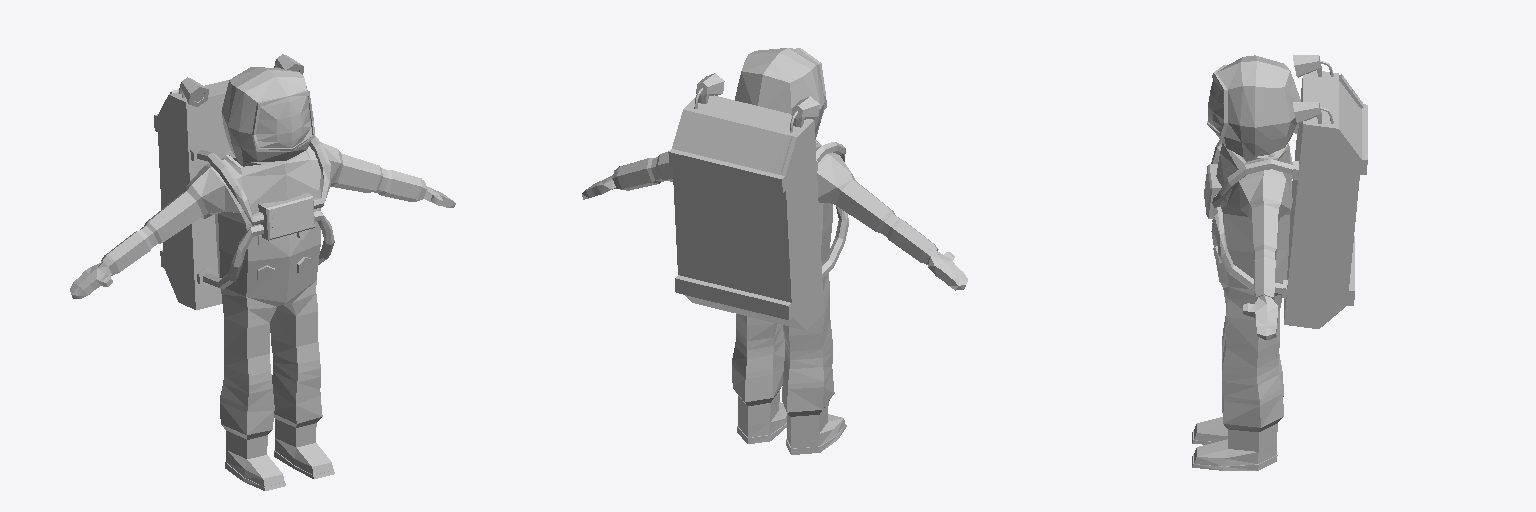
File: astronauta.obj
3 renders of one model, left to right at view 1: azimuth 30°, elevation 25°; view 2: azimuth 150°, elevation 25°; view 3: azimuth 270°, elevation 25°, orthographic.
Parts seen in each view (by area): view 1: Astronauta_Cubo, Mochila_Cubo.003; view 2: Mochila_Cubo.003, Astronauta_Cubo, Lanternas2_Cubo.008, Lanternas_Cubo.006; view 3: Astronauta_Cubo, Mochila_Cubo.003, Lanternas_Cubo.006, Lanternas2_Cubo.008.
Part boxes in pixels (left/top/right/bottom): Astronauta_Cubo: left=70, top=67, right=455, bottom=490; Mochila_Cubo.003: left=154, top=80, right=334, bottom=309; Mochila_Cubo.003: left=668, top=95, right=848, bottom=330; Astronauta_Cubo: left=582, top=48, right=967, bottom=454; Lanternas2_Cubo.008: left=694, top=73, right=724, bottom=108; Lanternas_Cubo.006: left=790, top=96, right=819, bottom=132; Astronauta_Cubo: left=1192, top=55, right=1300, bottom=470; Mochila_Cubo.003: left=1204, top=70, right=1367, bottom=328; Lanternas_Cubo.006: left=1293, top=55, right=1333, bottom=77; Lanternas2_Cubo.008: left=1293, top=102, right=1333, bottom=123.
Bounding box in the file's own units: 1.42 × 1.39 × 0.5678.